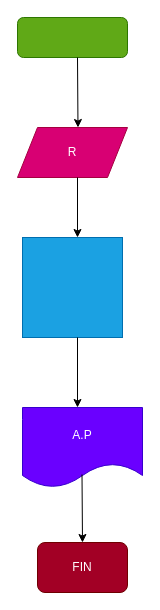
Image size: 160x610. Some labels were removed from this diagram. Each missing label, with the box of its shape:
A=M-R 2 P=2MR: (22, 236, 122, 338)
iINICIO: (16, 16, 128, 58)
